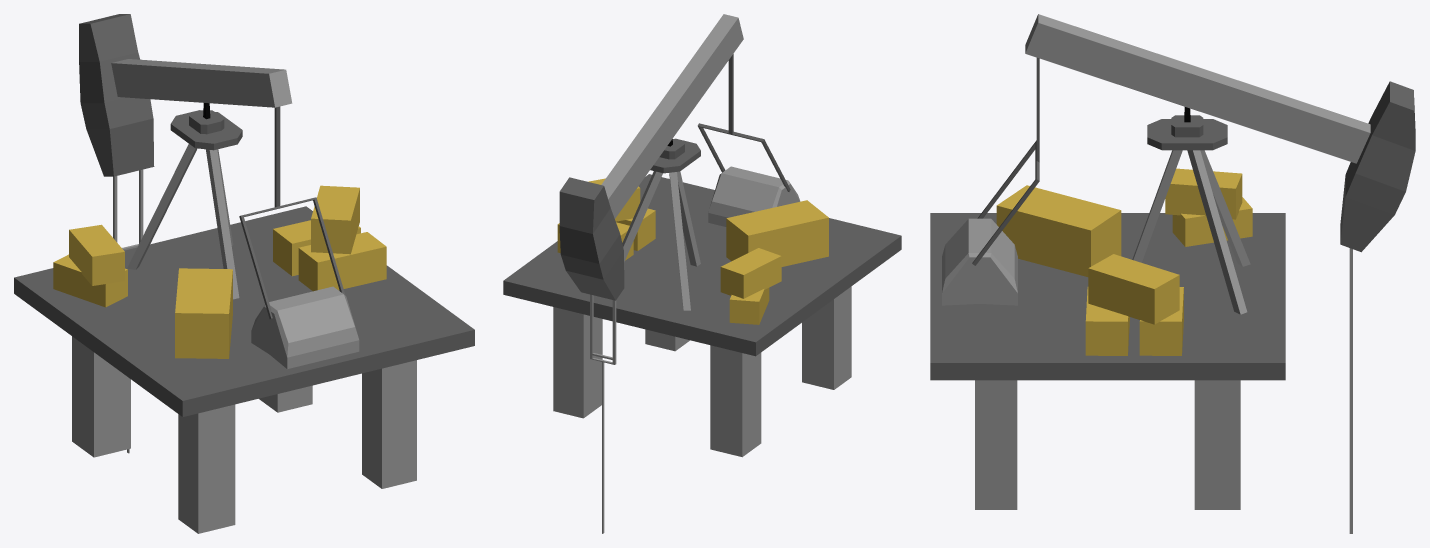
File: oil_rig_var1_Model.fbx
The picture shows the model from 3 angles, left to right: view 1: azimuth 30°, elevation 25°; view 2: azimuth 150°, elevation 25°; view 3: azimuth 270°, elevation 25°; orthographic projection. The views are drawn at different scales.
Visible parts, largest first — view 1: oil_rig_var_1; view 2: oil_rig_var_1; view 3: oil_rig_var_1.
Part boxes in pixels (x1,y1,x2,y2): oil_rig_var_1: (14, 14, 474, 533); oil_rig_var_1: (503, 14, 901, 533); oil_rig_var_1: (930, 14, 1415, 533).
Bounding box in the file's own units: 9.69 × 15.52 × 13.24.
Materials: 1 (1 with a texture image).
